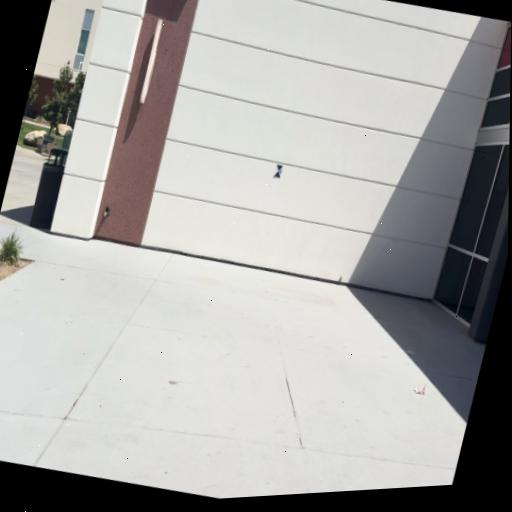target0: (274, 164, 284, 179)
